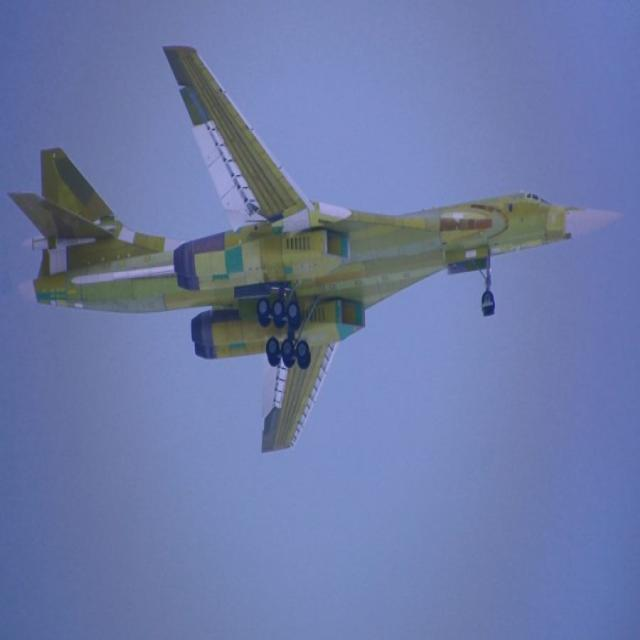Tu160: (3, 25, 632, 472)
